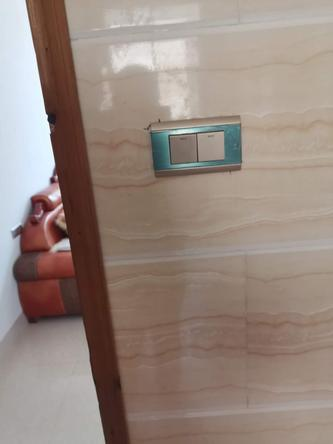switch: (167, 132, 198, 165), (196, 131, 227, 161)
